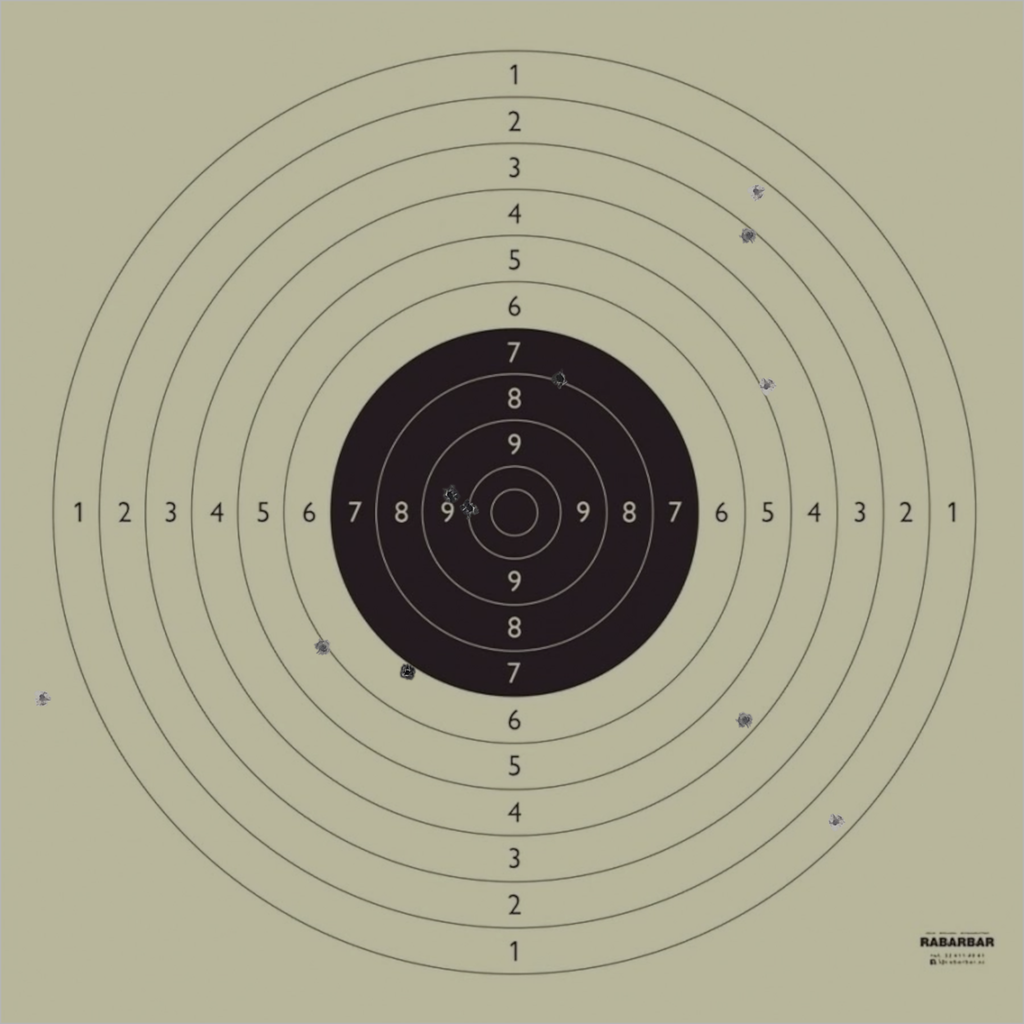0 punktow: (33, 689, 52, 707)
1 punkt: (826, 813, 845, 831)
10 punktow: (460, 499, 479, 517)
2 punkty: (747, 182, 766, 201)
3 punkty: (740, 226, 758, 245)
4 punkty: (736, 711, 755, 729)
5 punktow: (758, 377, 776, 395)
6 punktow: (314, 639, 332, 657)
7 punktow: (398, 663, 416, 682)
8 punktow: (551, 370, 569, 388)
9 punktow: (441, 485, 459, 504)
